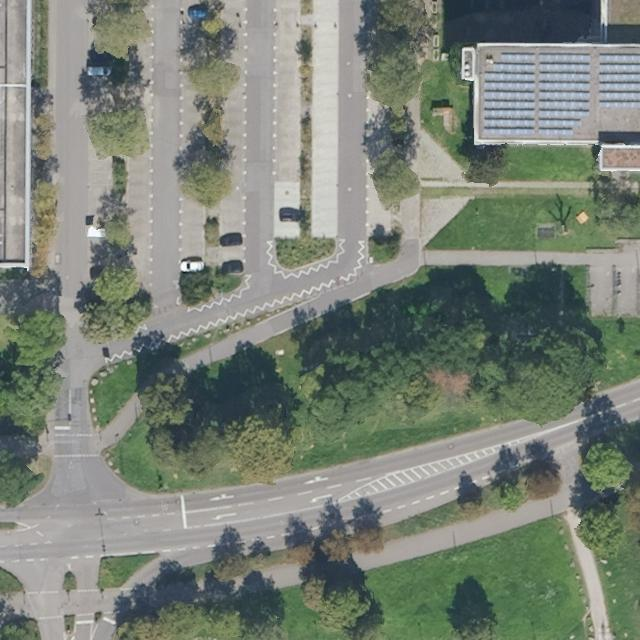PV: (479, 47, 538, 141), (538, 52, 590, 136), (600, 53, 639, 108)
